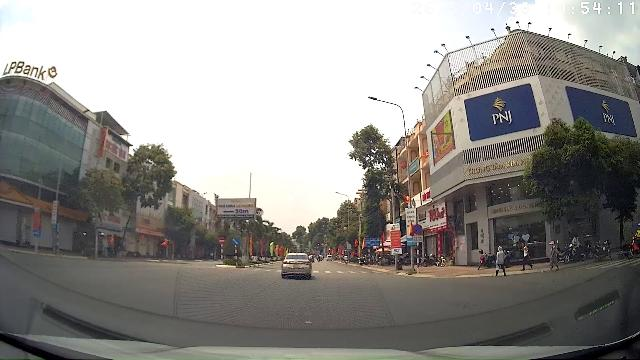130-cam-dung-va-do-xe: (413, 224, 423, 234)
